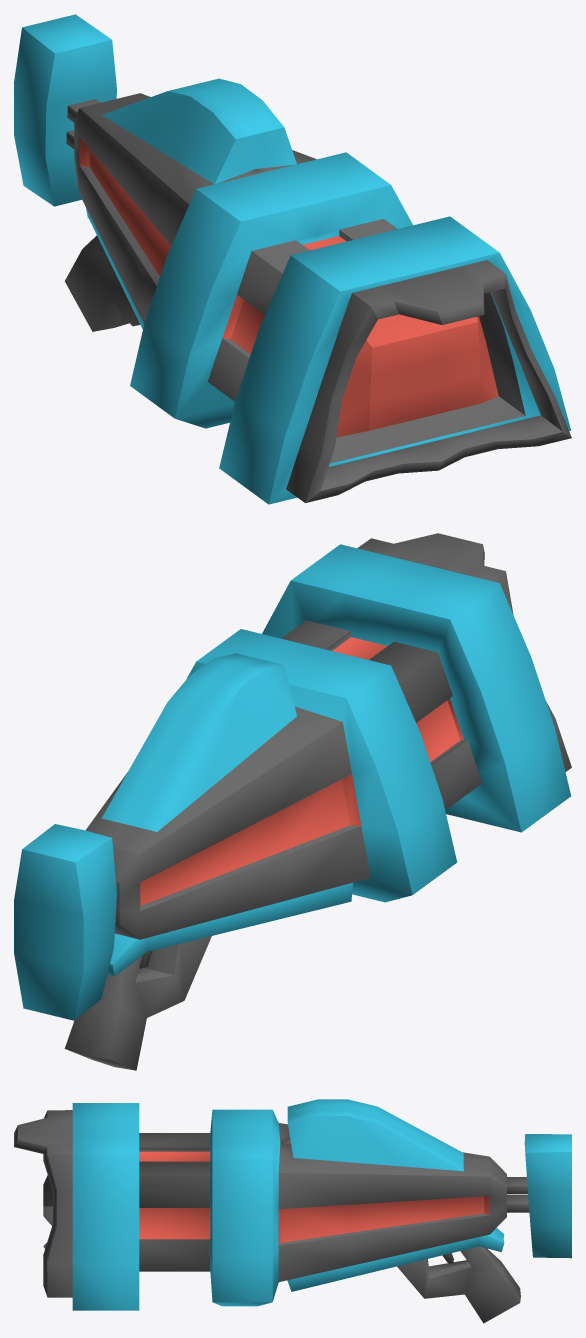
The model's file is Cannon.fbx.
3 views of the same model, one above another, from view 1: azimuth 30°, elevation 25°; view 2: azimuth 150°, elevation 25°; view 3: azimuth 270°, elevation 25° (orthographic). The views are drawn at different scales.
Visible parts, largest first — view 1: Cannon; view 2: Cannon; view 3: Cannon.
Part boxes in pixels (x1,y1,x2,y2): Cannon: (14,14,571,504); Cannon: (14,533,571,1070); Cannon: (14,1099,571,1323).
Bounding box in the file's own units: 202 × 199 × 480.
